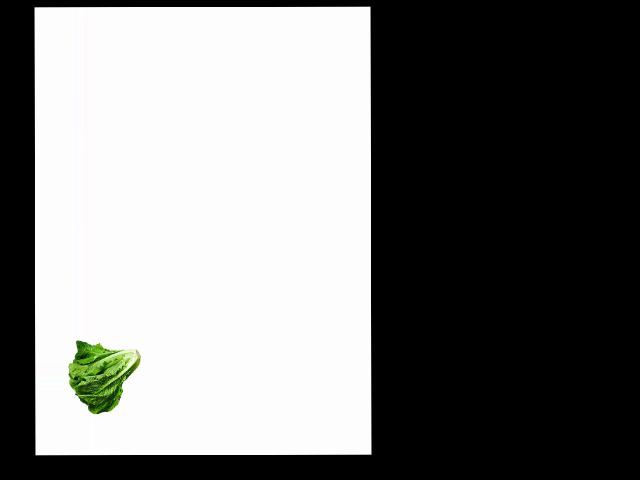lettuce: (68, 341, 144, 415)
